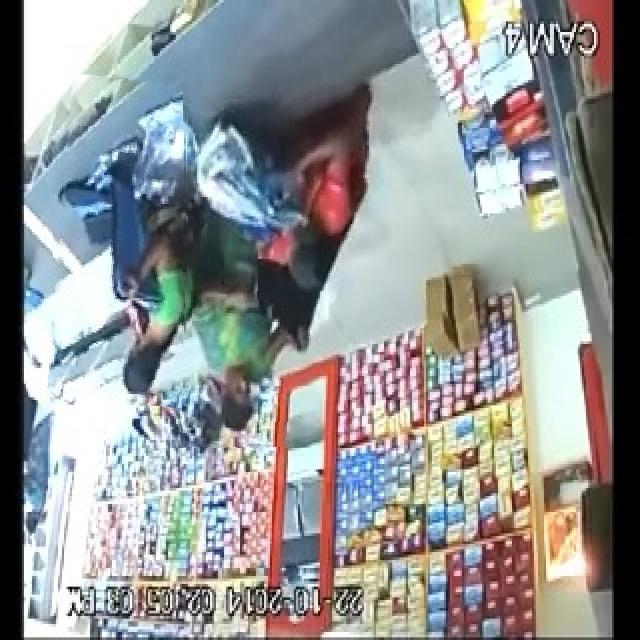normal: (53, 76, 205, 406), (185, 68, 387, 291), (182, 223, 316, 447)
